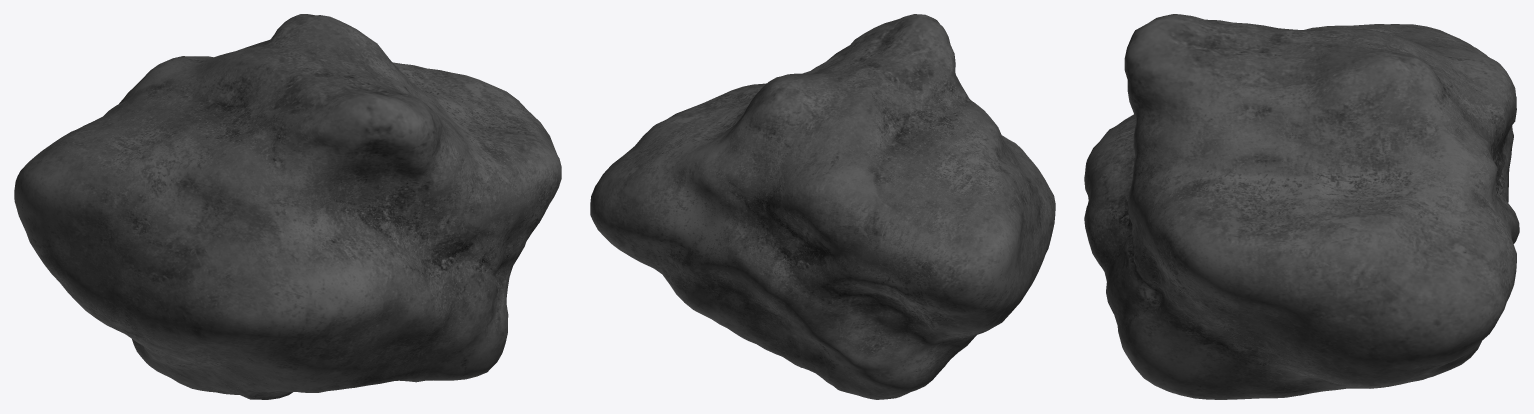
Rendered from earth with asteroid(16).glb.
The picture shows the model from 3 angles, left to right: view 1: azimuth 30°, elevation 25°; view 2: azimuth 150°, elevation 25°; view 3: azimuth 270°, elevation 25°; orthographic projection. The views are drawn at different scales.
Visible parts, largest first — view 1: Group24690_Standard_0.008; view 2: Group24690_Standard_0.008; view 3: Group24690_Standard_0.008.
Part boxes in pixels (x1,y1,x2,y2): Group24690_Standard_0.008: [14, 14, 561, 399]; Group24690_Standard_0.008: [590, 14, 1055, 399]; Group24690_Standard_0.008: [1084, 14, 1519, 399].
Bounding box in the file's own units: 1.48 × 1.03 × 1.11.
Materials: 1 (1 with a texture image).
